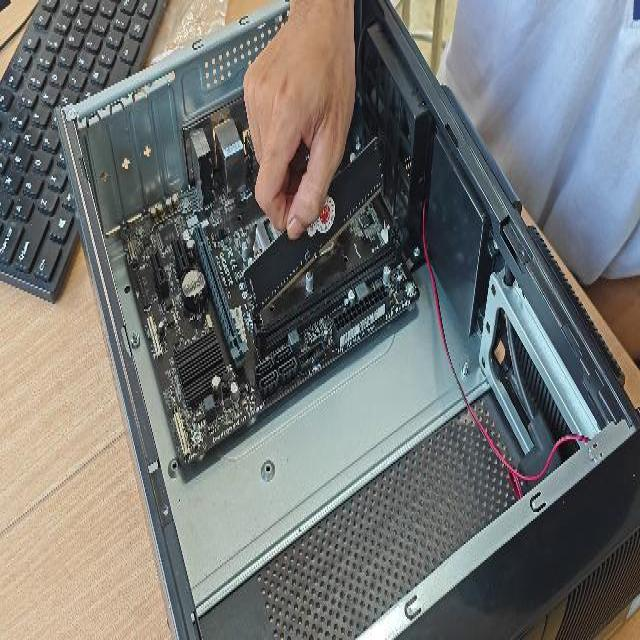Mainboard: (119, 149, 420, 464)
RAM: (242, 136, 384, 324)
